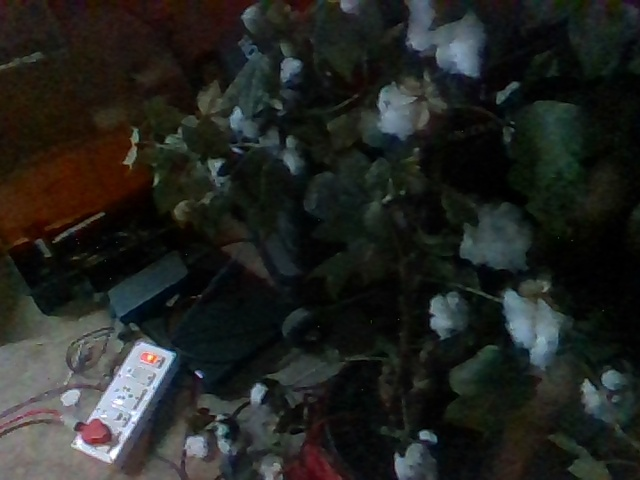cotton: (389, 1, 493, 77), (453, 190, 533, 271), (501, 285, 574, 370), (575, 354, 638, 430), (372, 80, 435, 141), (382, 431, 445, 480), (426, 290, 474, 338), (280, 134, 310, 175)
